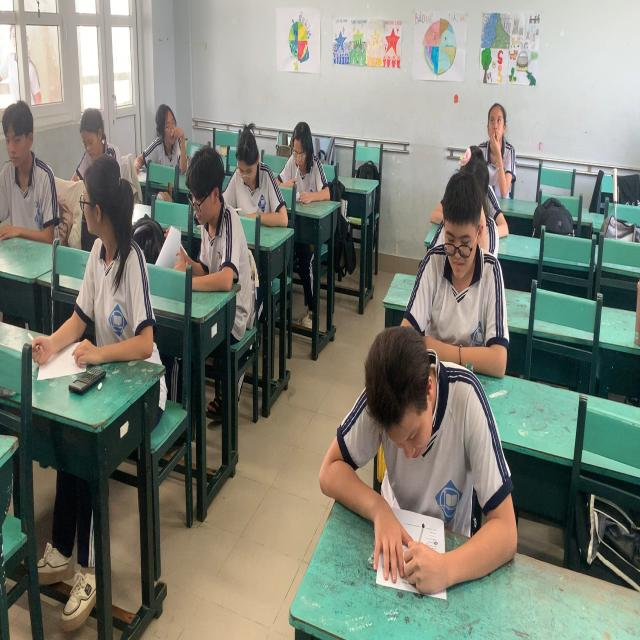cheating: (58, 165, 136, 352), (146, 87, 190, 173)
not_cheating: (338, 299, 470, 475), (435, 166, 499, 324), (3, 101, 58, 240), (182, 149, 238, 285), (230, 118, 282, 238), (465, 90, 521, 190), (292, 125, 331, 222), (69, 90, 108, 177)
